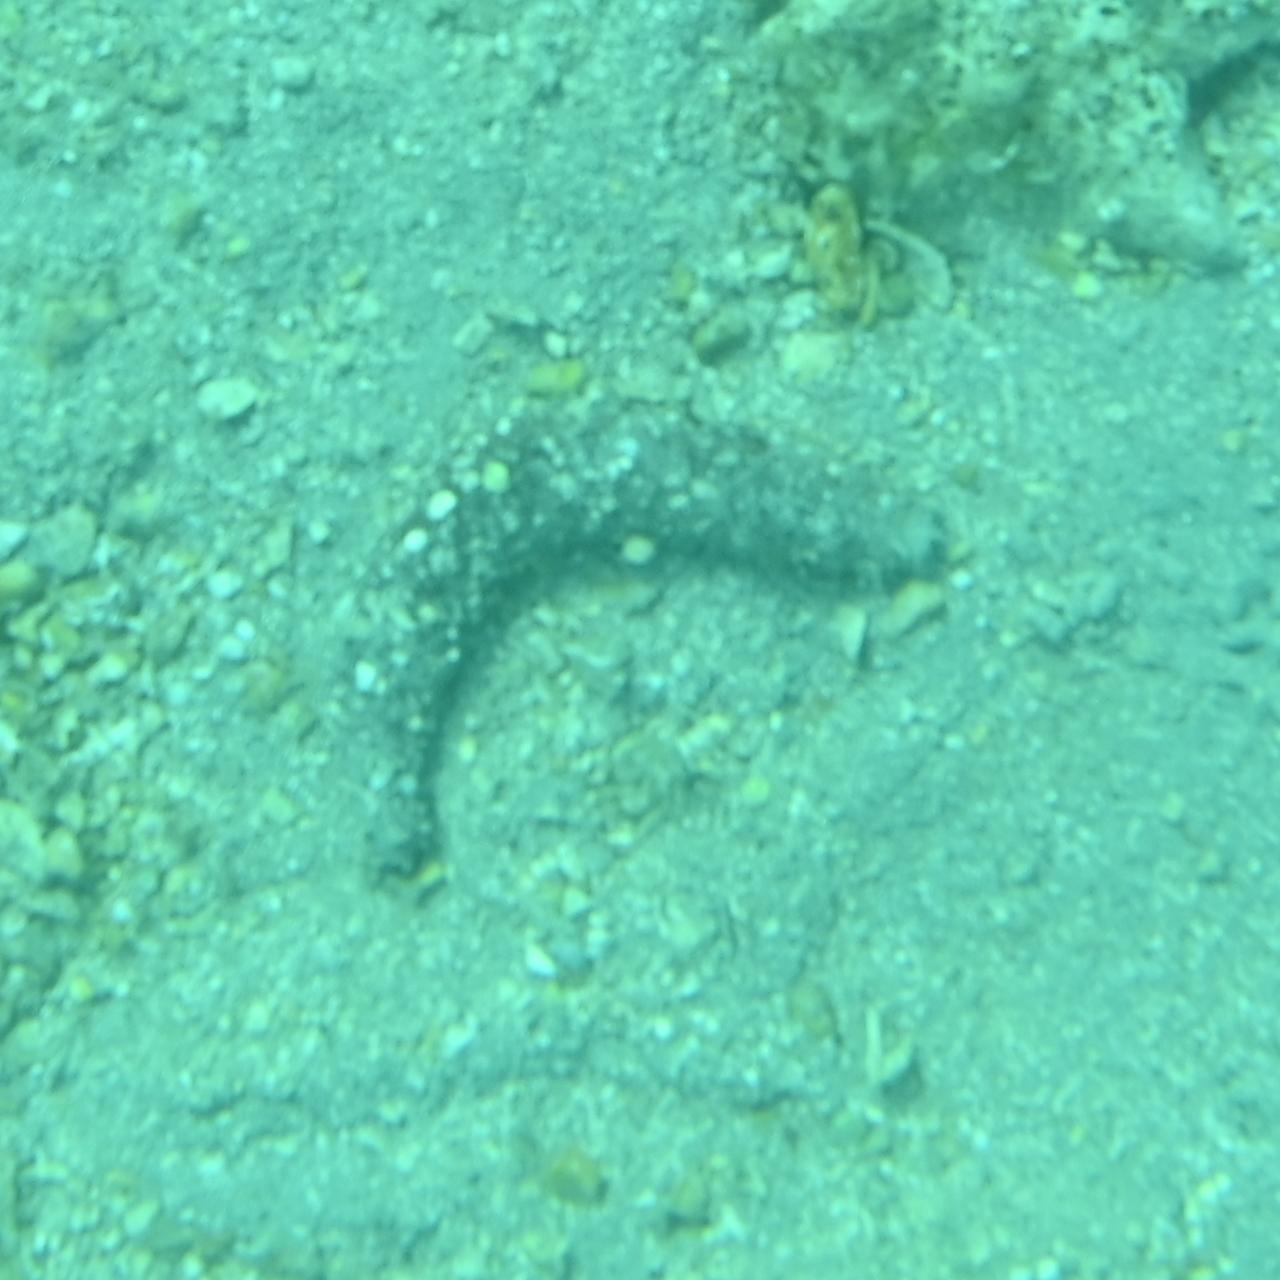Holothuria tubulosa: (310, 378, 970, 902)
